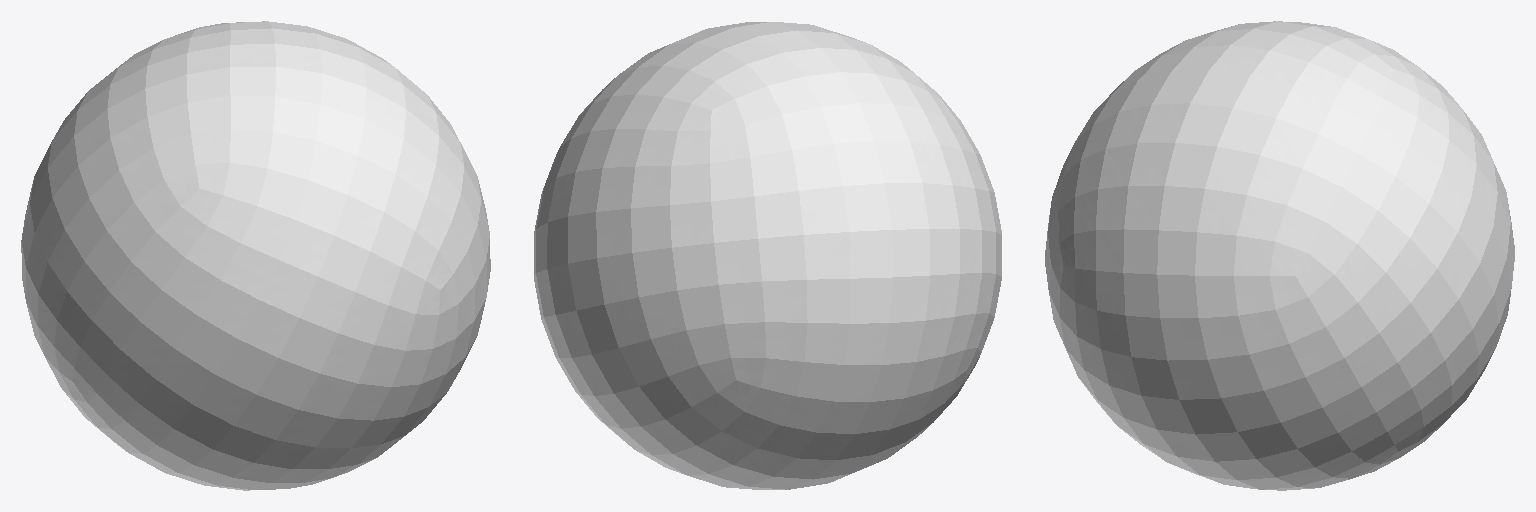
Rendered from moon.obj.
3 views of the same model, side by side, from view 1: azimuth 30°, elevation 25°; view 2: azimuth 150°, elevation 25°; view 3: azimuth 270°, elevation 25° (orthographic).
Parts seen in each view (by area): view 1: Cube_002; view 2: Cube_002; view 3: Cube_002.
Part boxes in pixels (x1,y1,x2,y2): Cube_002: (21, 21, 490, 490); Cube_002: (534, 22, 1001, 489); Cube_002: (1045, 21, 1514, 490).
Bounding box in the file's own units: 3.45 × 3.44 × 3.45.